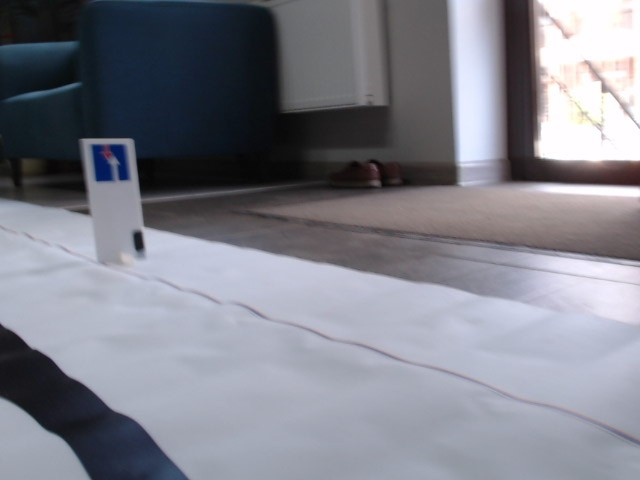priority_movement: (87, 142, 132, 183)
